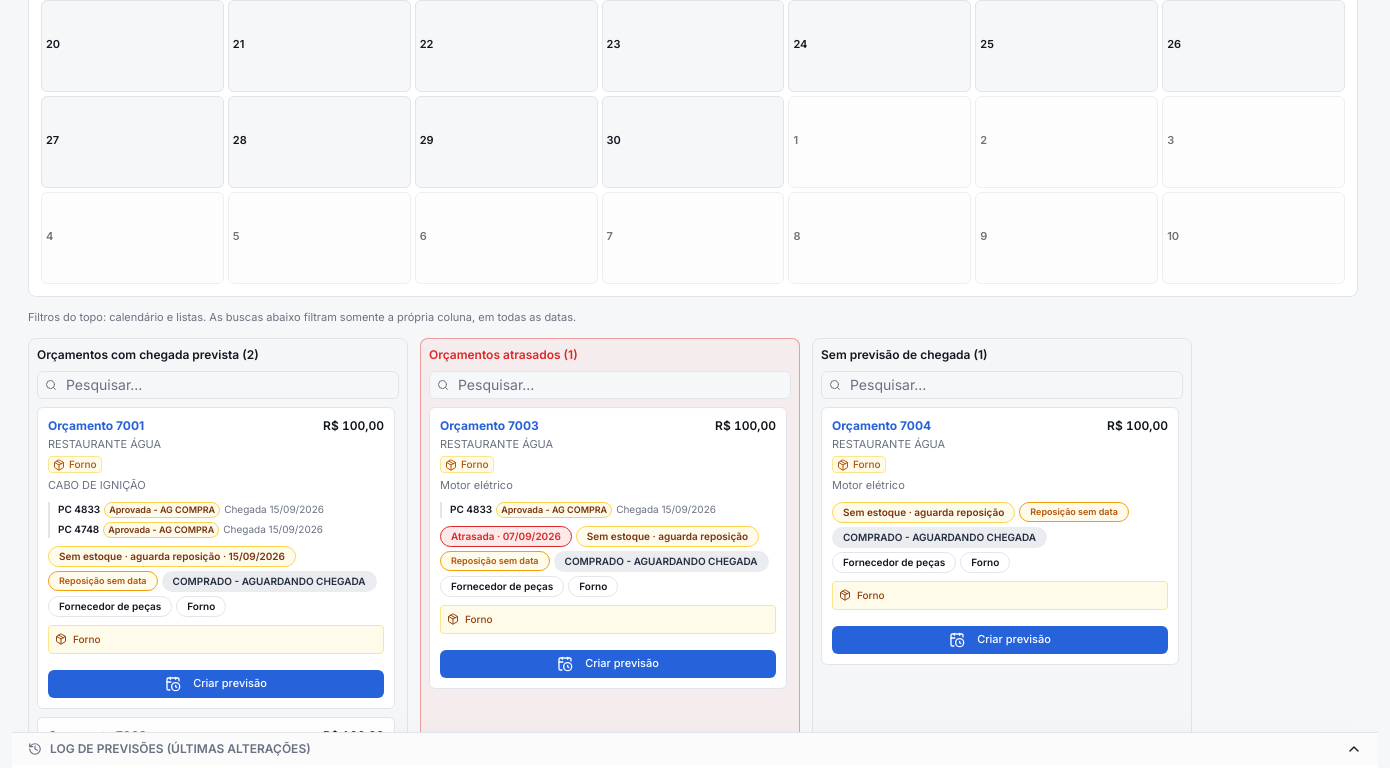
filtros da página de chegada de peças › busca PC secundário e peças nas colunas, aceitando espaços e texto sem acentos
The image size is (1390, 768).
Later steps or results of the test are not shown.
(page scrolled)
Check: the text "Orçamento 7001" is shown, box [48,418,144,434]
Step 1. Type "  4748  " into the field named "Buscar nas chegadas previstas" → (218,384), box [37,370,399,398]
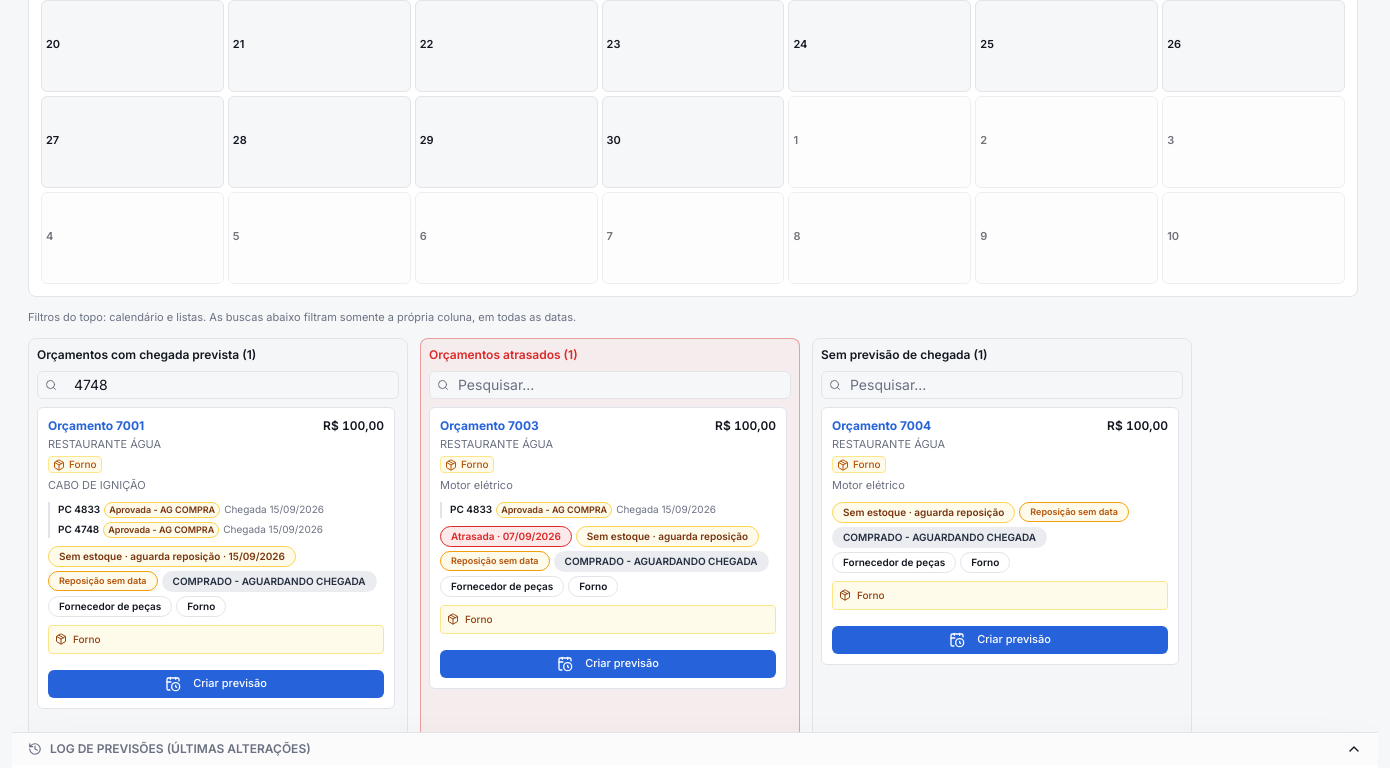
Check: the text "Orçamento 7001" is shown, box [48,418,144,434]
Check: the text "Orçamento 7002" is gone
